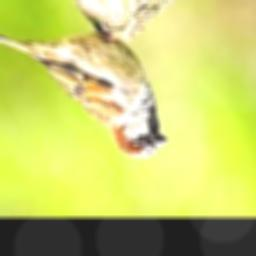Sparrow: (0, 18, 168, 159)
